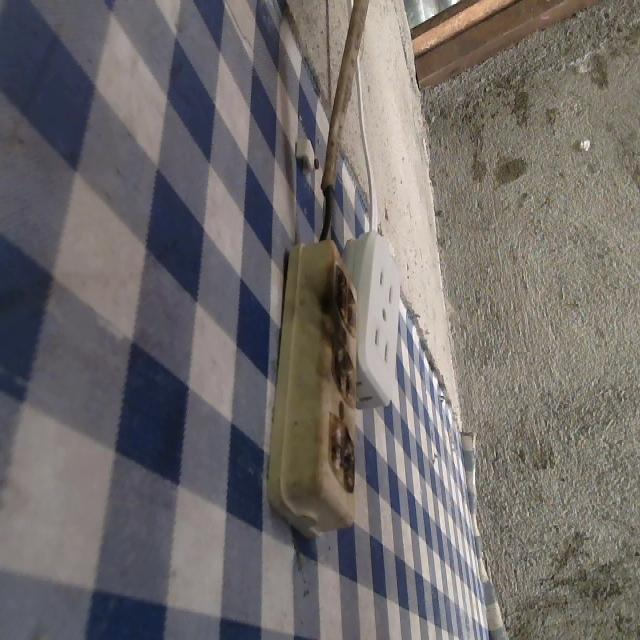-: (324, 408, 357, 496), (331, 258, 361, 338), (330, 345, 361, 403)
